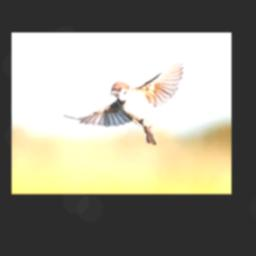Sparrow: (63, 54, 185, 144)
